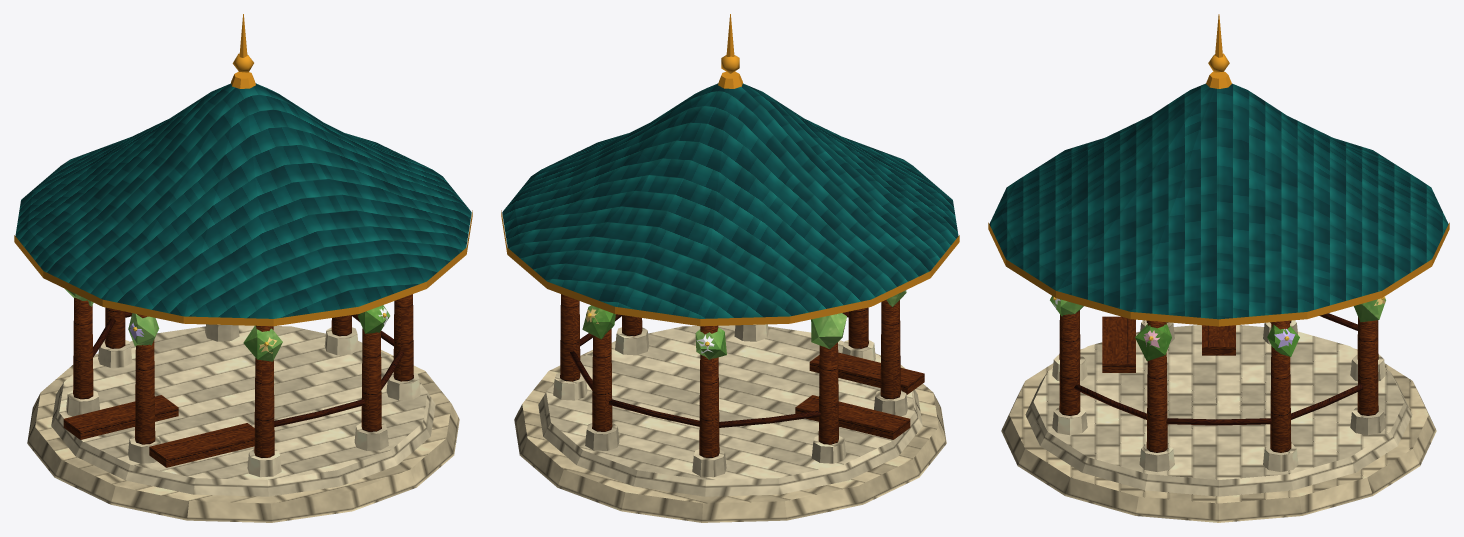
The model's file is gazebo_sky.glb.
3 renders of one model, left to right at view 1: azimuth 30°, elevation 25°; view 2: azimuth 150°, elevation 25°; view 3: azimuth 270°, elevation 25°, orthographic.
Parts seen in each view (by area): view 1: gazebo_sky; view 2: gazebo_sky; view 3: gazebo_sky.
Part boxes in pixels (<box>): gazebo_sky: <box>14,14,472,522</box>; gazebo_sky: <box>501,14,959,522</box>; gazebo_sky: <box>988,14,1449,522</box>.
Bounding box in the file's own units: 5.72 × 5.7 × 5.72.
7 materials, 4 textured.
